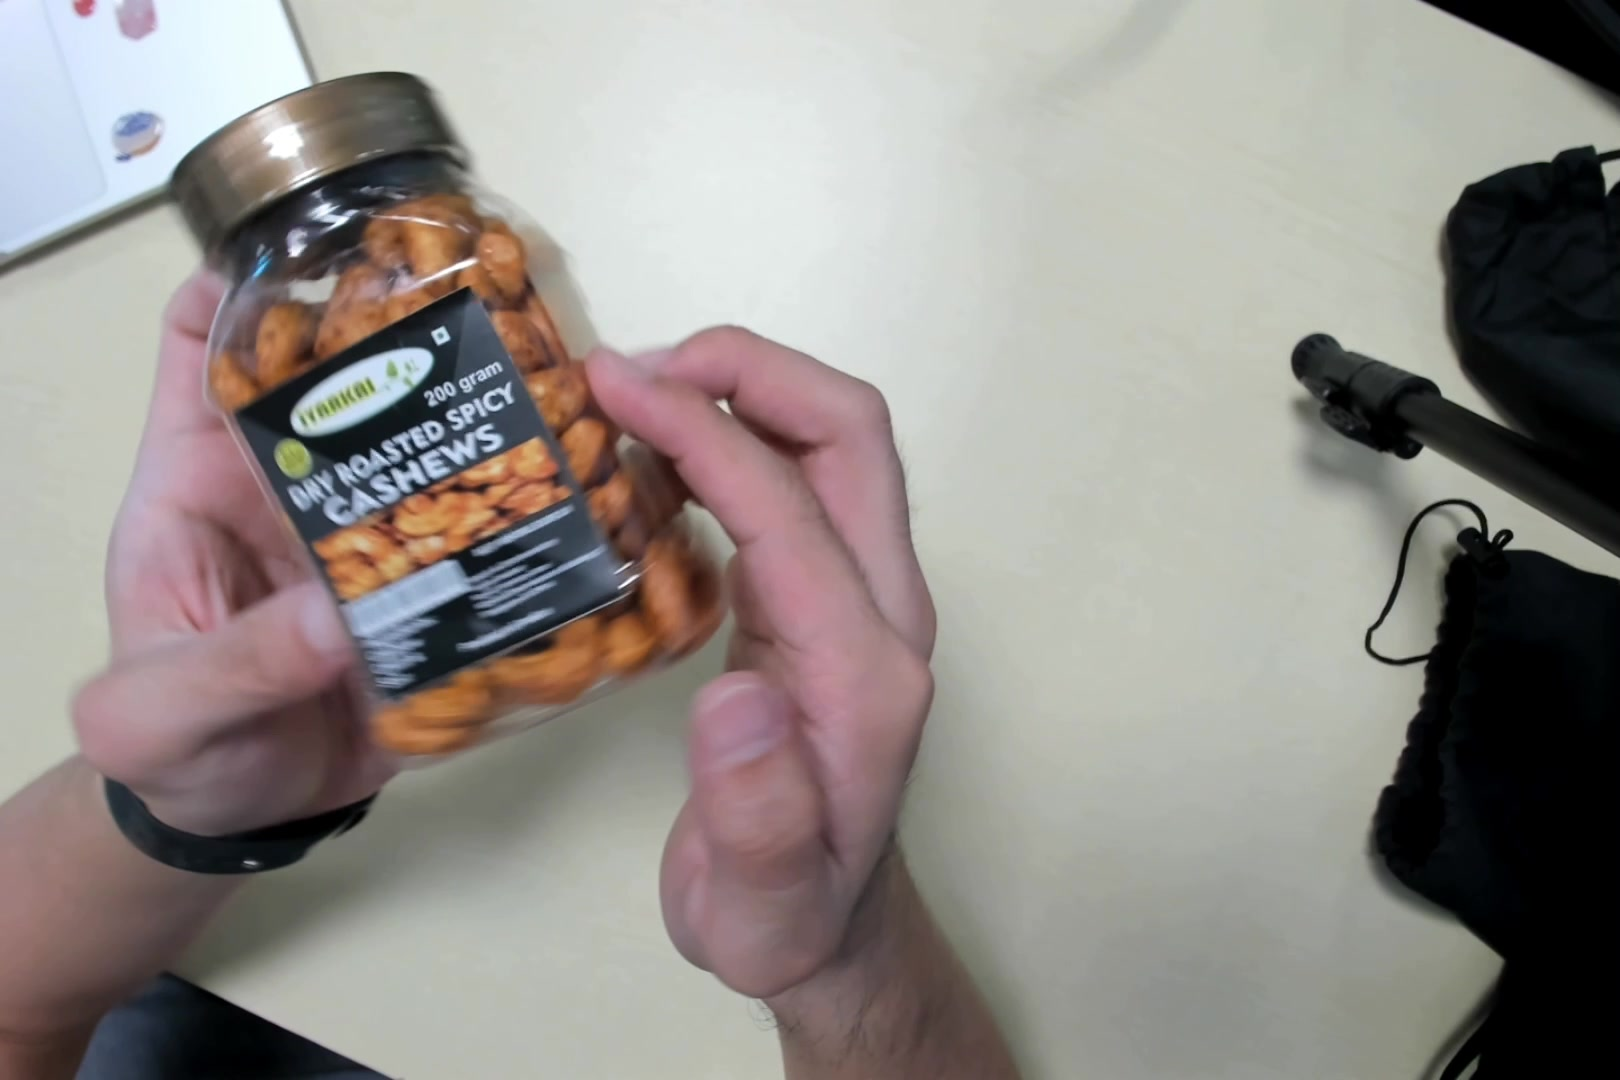Nuts_200-299g_NonHalal_NonHealthy: (184, 69, 736, 771)
